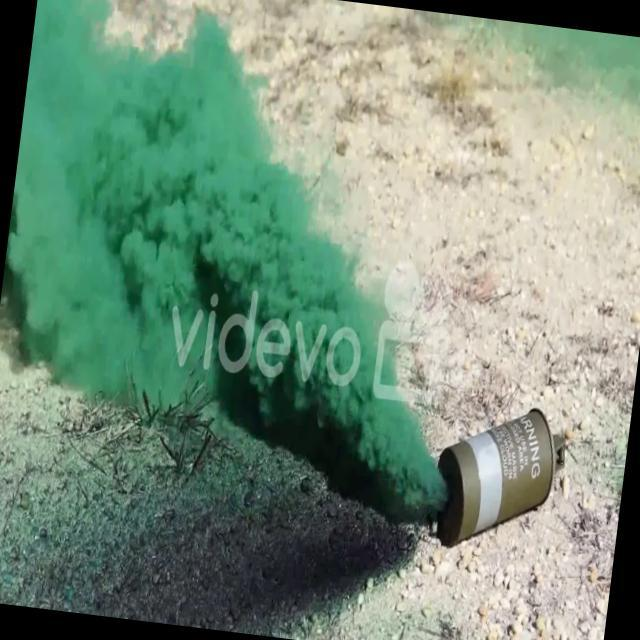grenade: (427, 380, 576, 568)
